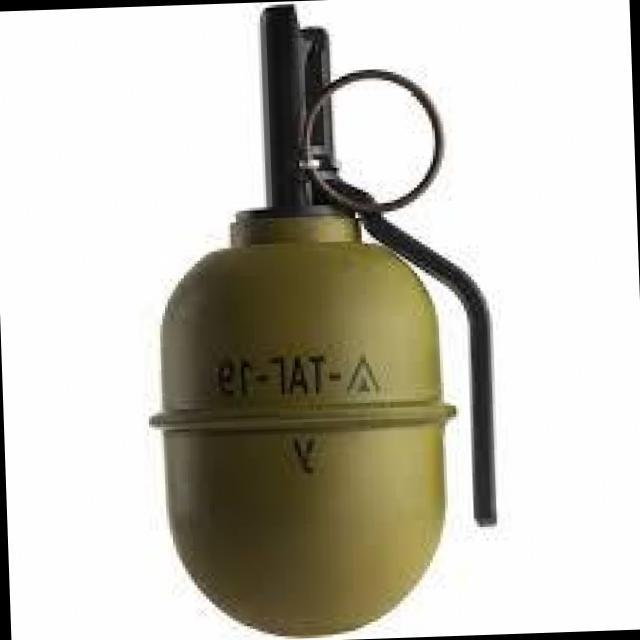grenade: (130, 0, 505, 637)
